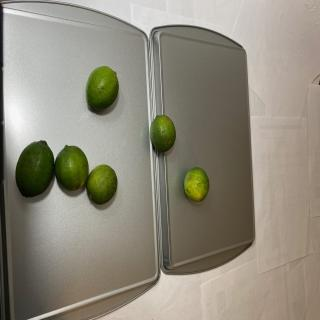Lemon: (15, 139, 55, 198), (54, 144, 89, 192), (85, 66, 119, 110), (86, 164, 117, 205), (149, 114, 176, 152), (183, 167, 210, 202)
